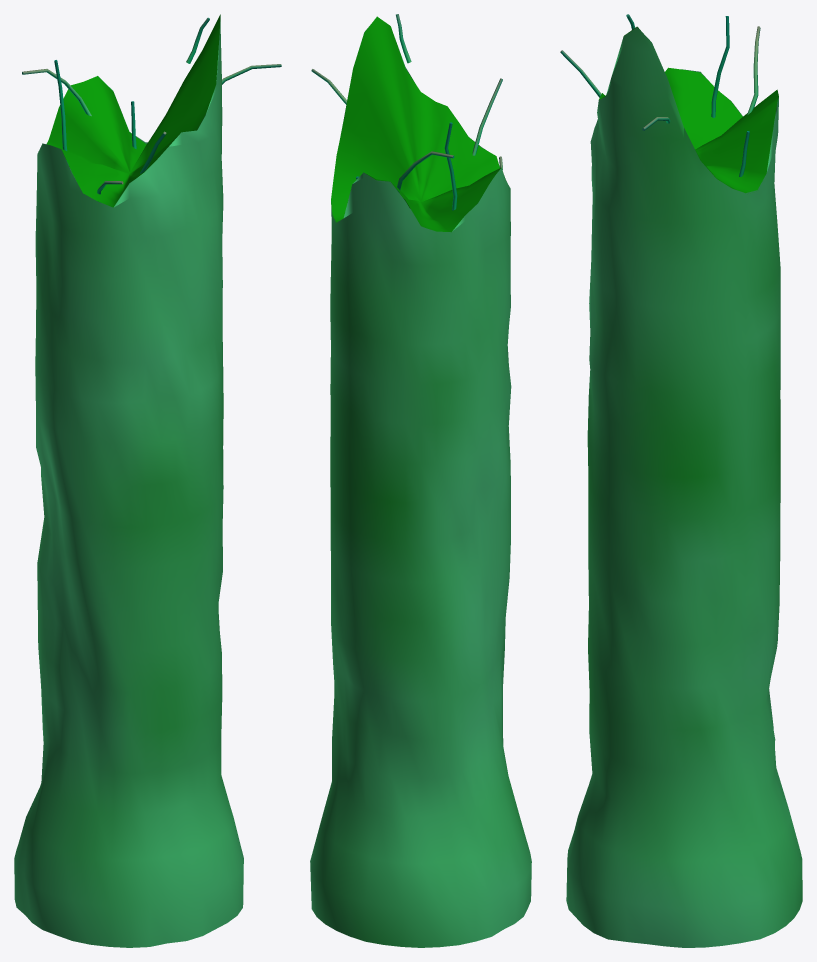
File: ruin_column_broken.glb
The picture shows the model from 3 angles, left to right: view 1: azimuth 30°, elevation 25°; view 2: azimuth 150°, elevation 25°; view 3: azimuth 270°, elevation 25°; orthographic projection. The views are drawn at different scales.
Visible parts, largest first — view 1: ruin_column_broken; view 2: ruin_column_broken; view 3: ruin_column_broken.
Part boxes in pixels (bbox=[...]): ruin_column_broken: bbox=[14, 14, 281, 947]; ruin_column_broken: bbox=[310, 14, 531, 947]; ruin_column_broken: bbox=[560, 14, 802, 947].
Size of what is drawn, in the model's own units: 1.33 by 4.87 by 1.17.
